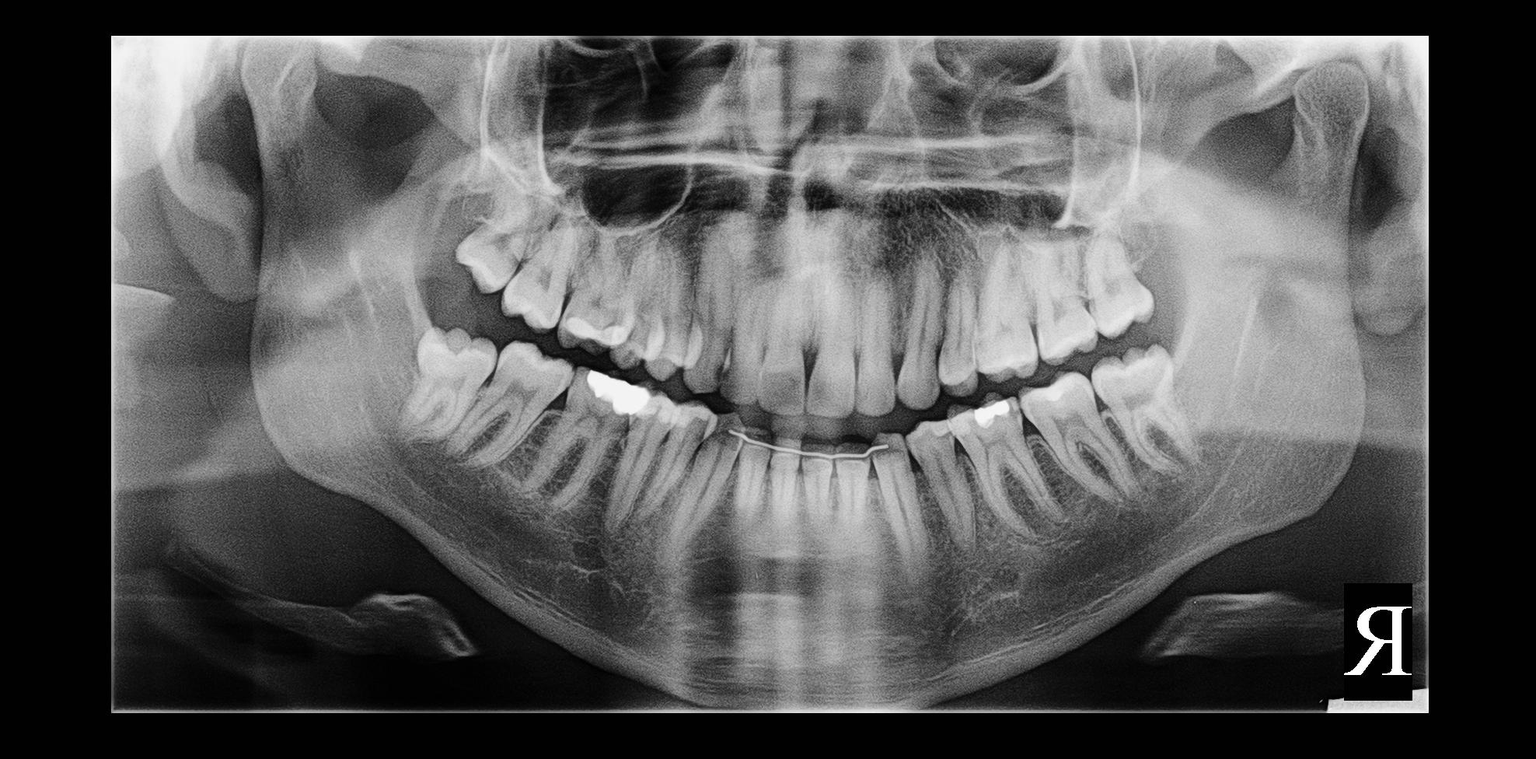Premolars: (520, 290, 1536, 759), (491, 303, 1474, 759), (472, 122, 1414, 439), (260, 271, 852, 759), (386, 124, 1125, 401), (364, 93, 1049, 329), (317, 103, 904, 326)
